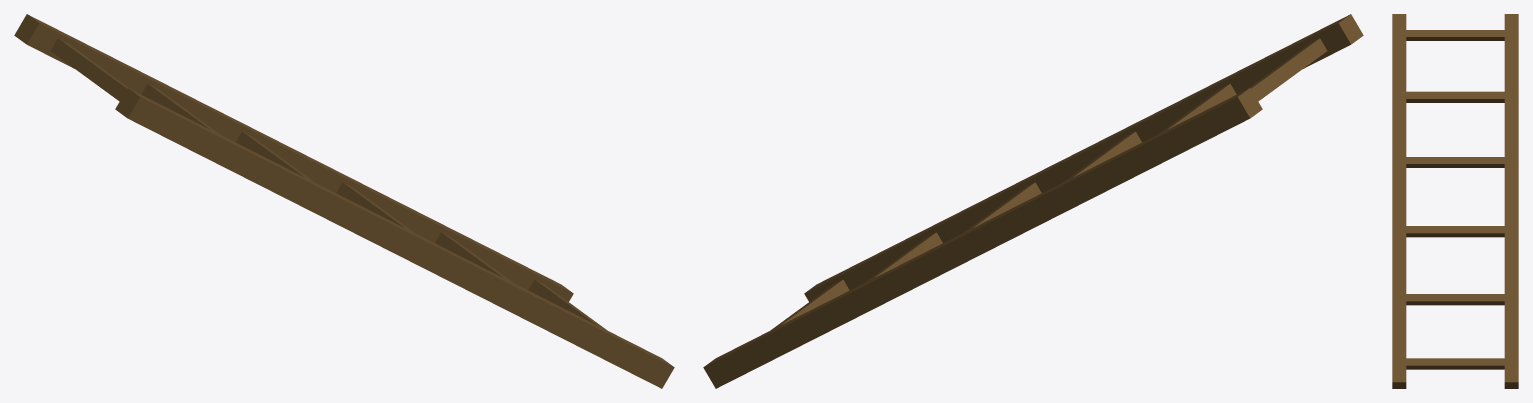
The model's file is stairs_2.fbx.
3 renders of one model, left to right at view 1: azimuth 30°, elevation 25°; view 2: azimuth 150°, elevation 25°; view 3: azimuth 270°, elevation 25°, orthographic. The views are drawn at different scales.
Parts seen in each view (by area): view 1: stairs_2; view 2: stairs_2; view 3: stairs_2.
Boxes of the visible parts, <box> form: stairs_2: <box>14,14,674,388</box>; stairs_2: <box>703,14,1363,388</box>; stairs_2: <box>1392,14,1518,388</box>.
Size of the model in its own units: 363 by 266 by 130.
